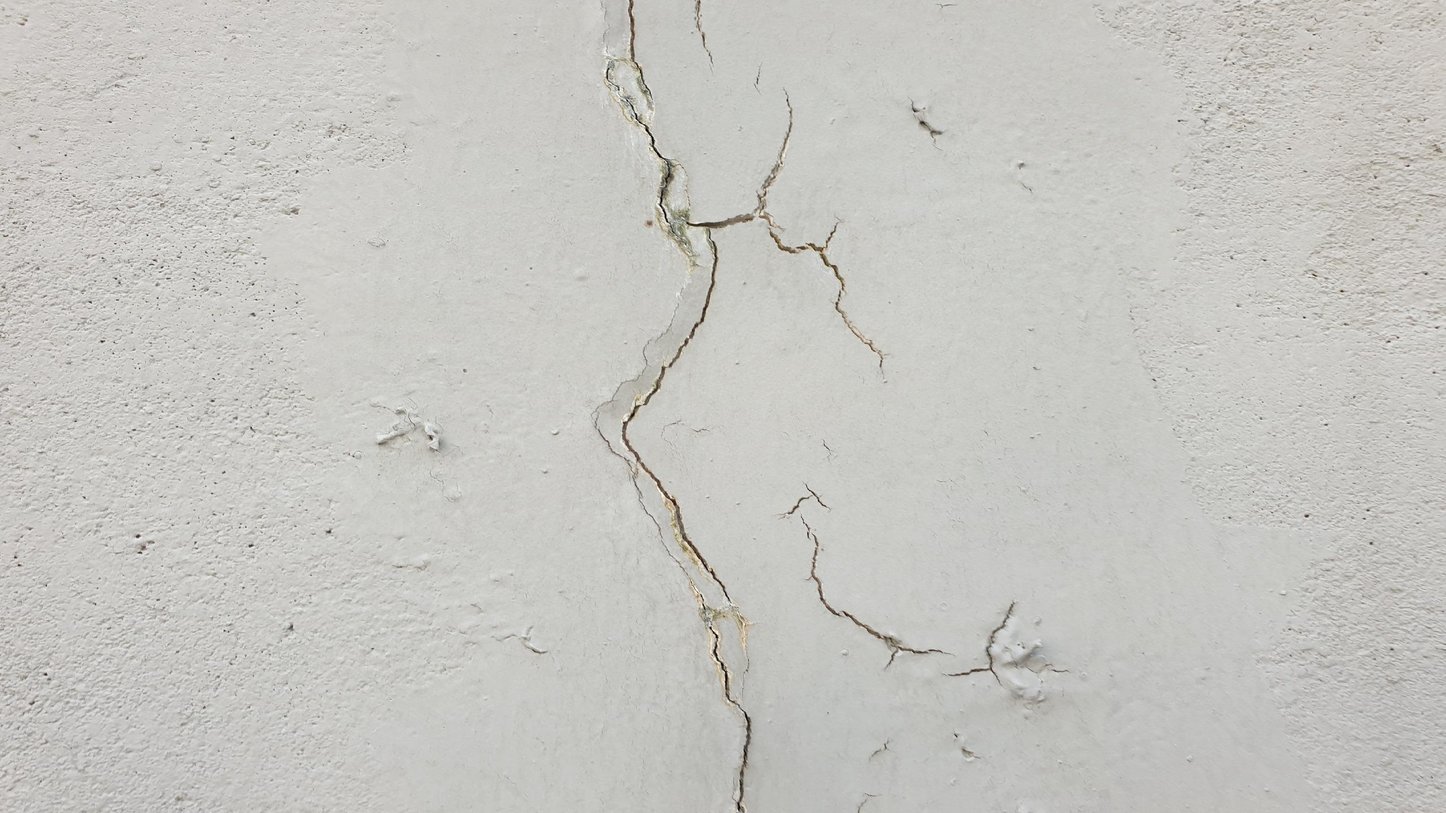crack: (583, 2, 882, 808), (801, 538, 934, 673)
